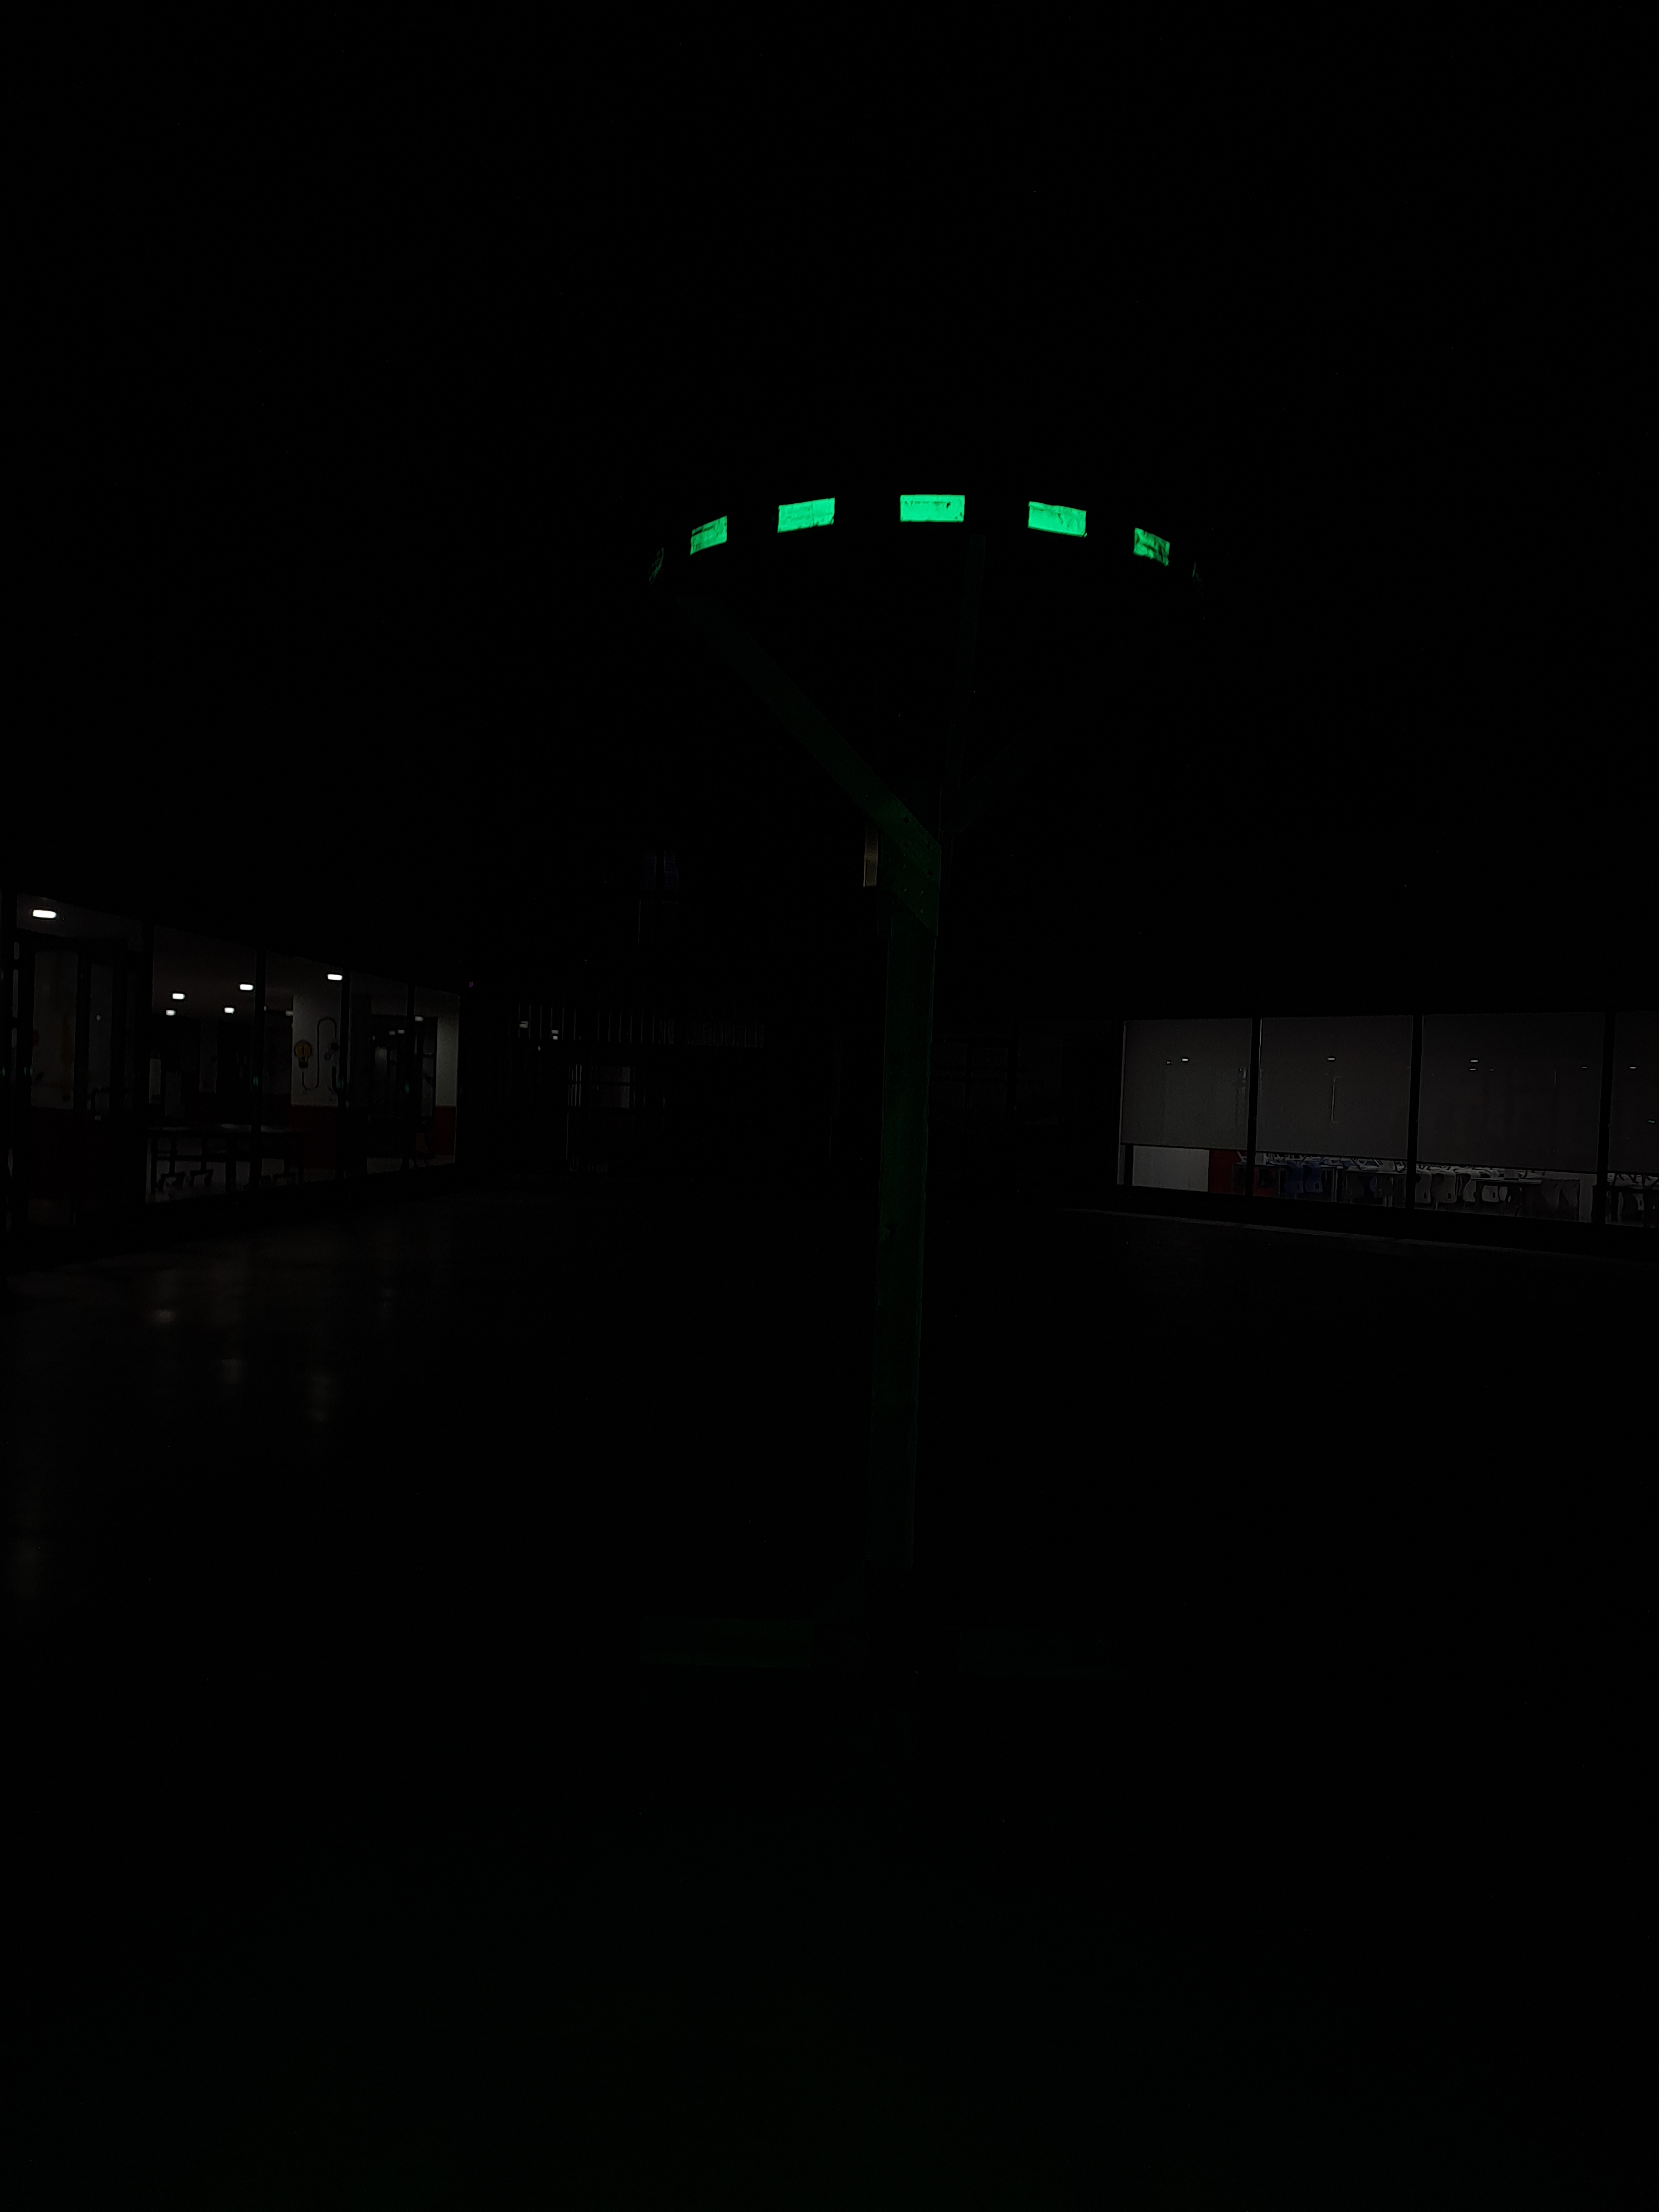hoop: (683, 488, 1180, 577)
